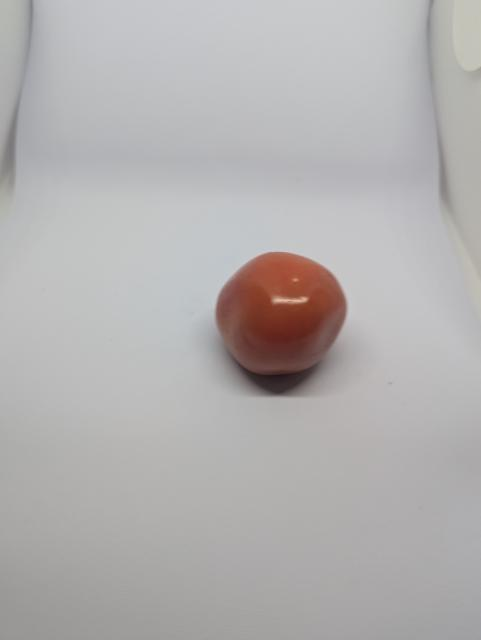red: (205, 246, 354, 396)
